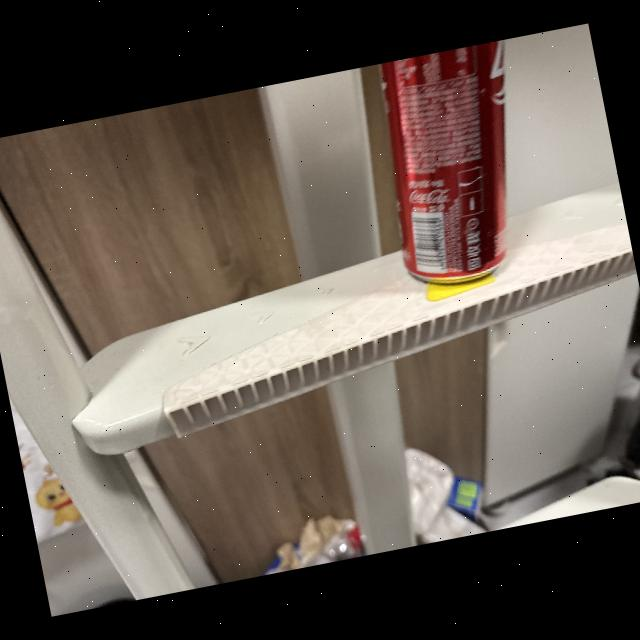Cola: (357, 40, 558, 298)
